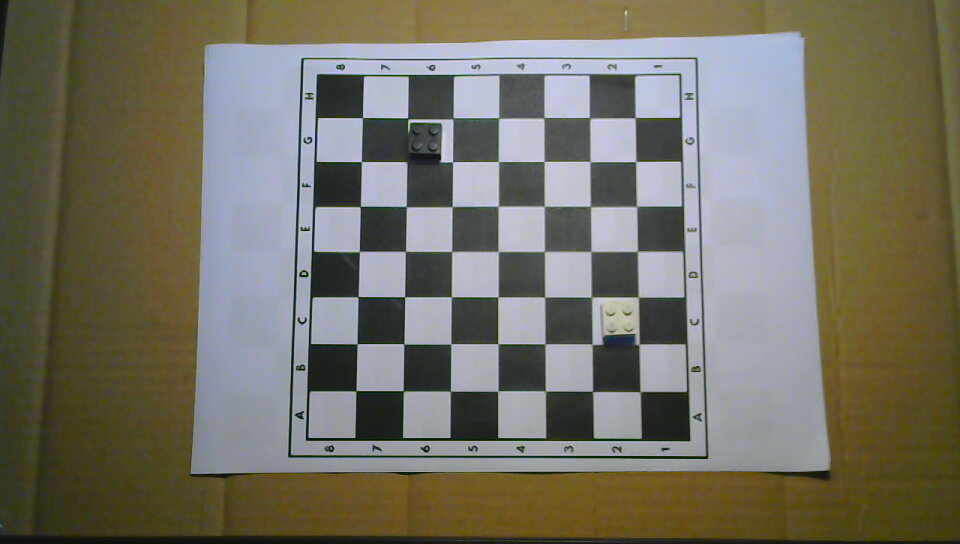bp: (408, 120, 442, 160)
wp: (599, 301, 636, 338)
